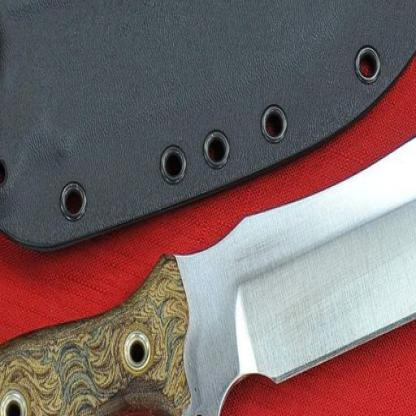knife: (0, 83, 415, 415)
